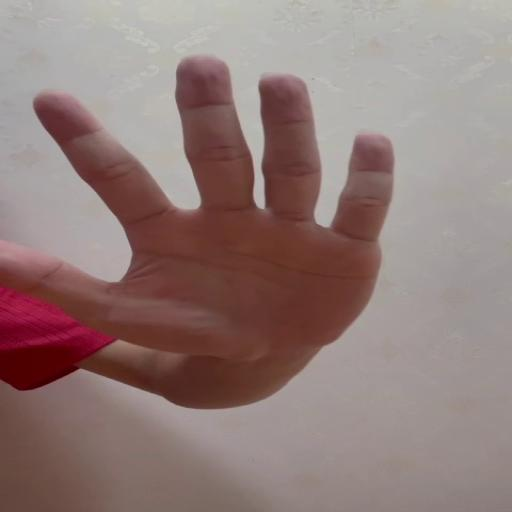open_palm: (0, 51, 398, 357)
